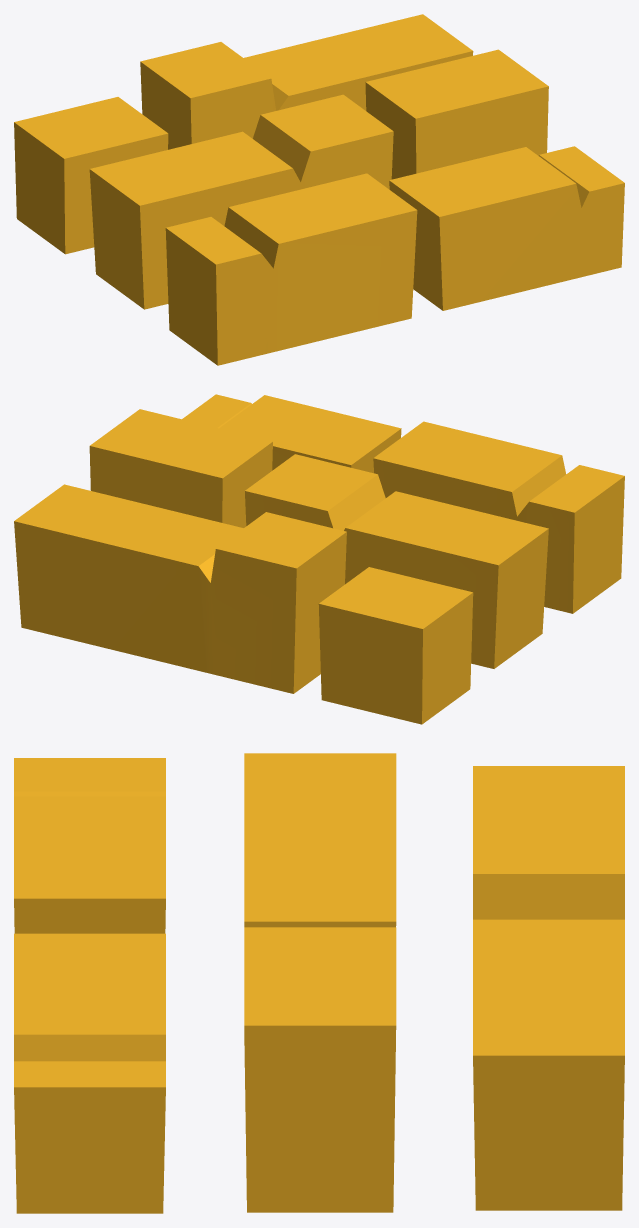
The model's file is farm_wheat.glb.
3 views of the same model, one above another, from view 1: azimuth 30°, elevation 25°; view 2: azimuth 150°, elevation 25°; view 3: azimuth 270°, elevation 25° (orthographic). The views are drawn at different scales.
Parts seen in each view (by area): view 1: farm_wheat_Cube.399; view 2: farm_wheat_Cube.399; view 3: farm_wheat_Cube.399.
Boxes of the visible parts, x1,y1,x2,y2 form: farm_wheat_Cube.399: (14, 14, 624, 365); farm_wheat_Cube.399: (14, 394, 624, 724); farm_wheat_Cube.399: (14, 753, 624, 1213).
Size of the model in its own units: 1.2 by 0.3567 by 1.03.
